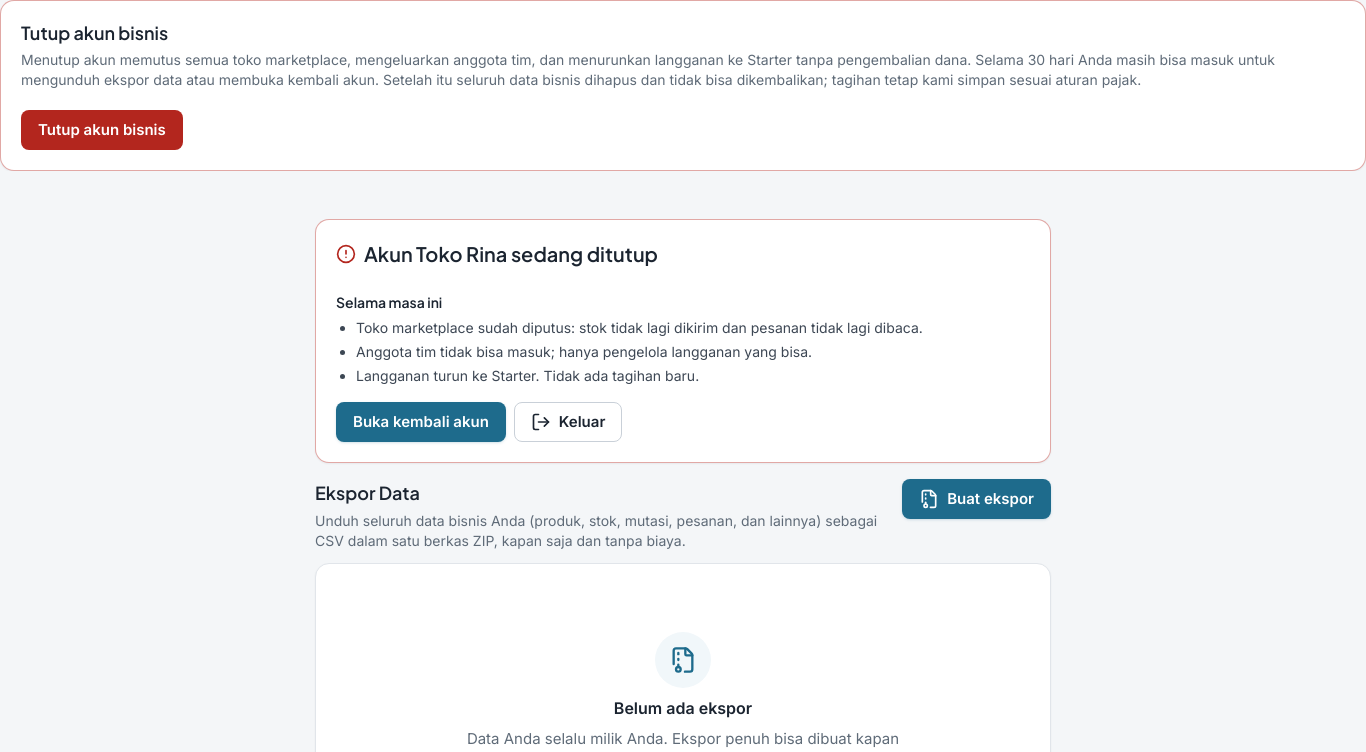
ClosureCard (L47) › hands the closing page what the api answered, not what it read while the account was open
Click the button "Tutup akun bisnis".
click(102, 130)  # box [21,110,183,150]
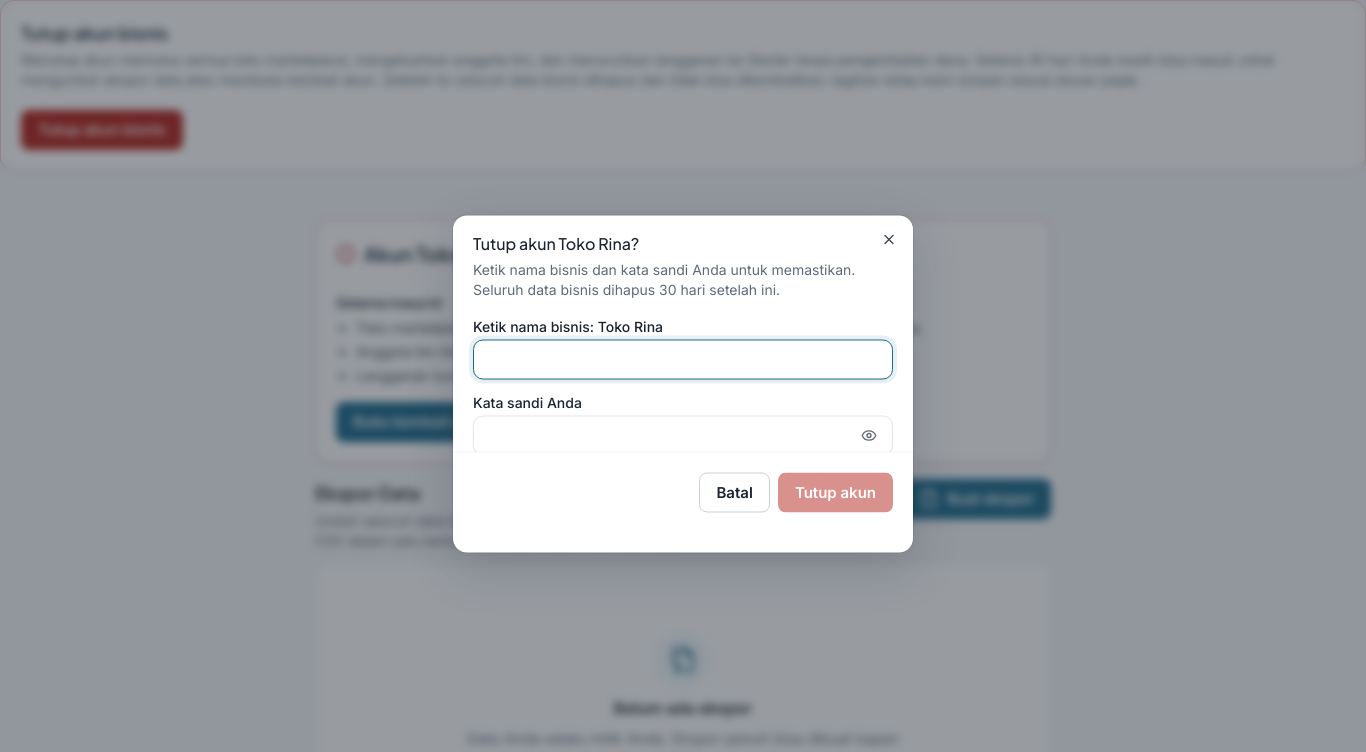
Type "Toko Rina" into the field labelled "Ketik nama bisnis: Toko Rina".
click(683, 360); type("Toko Rina")  # box [473,340,893,380]
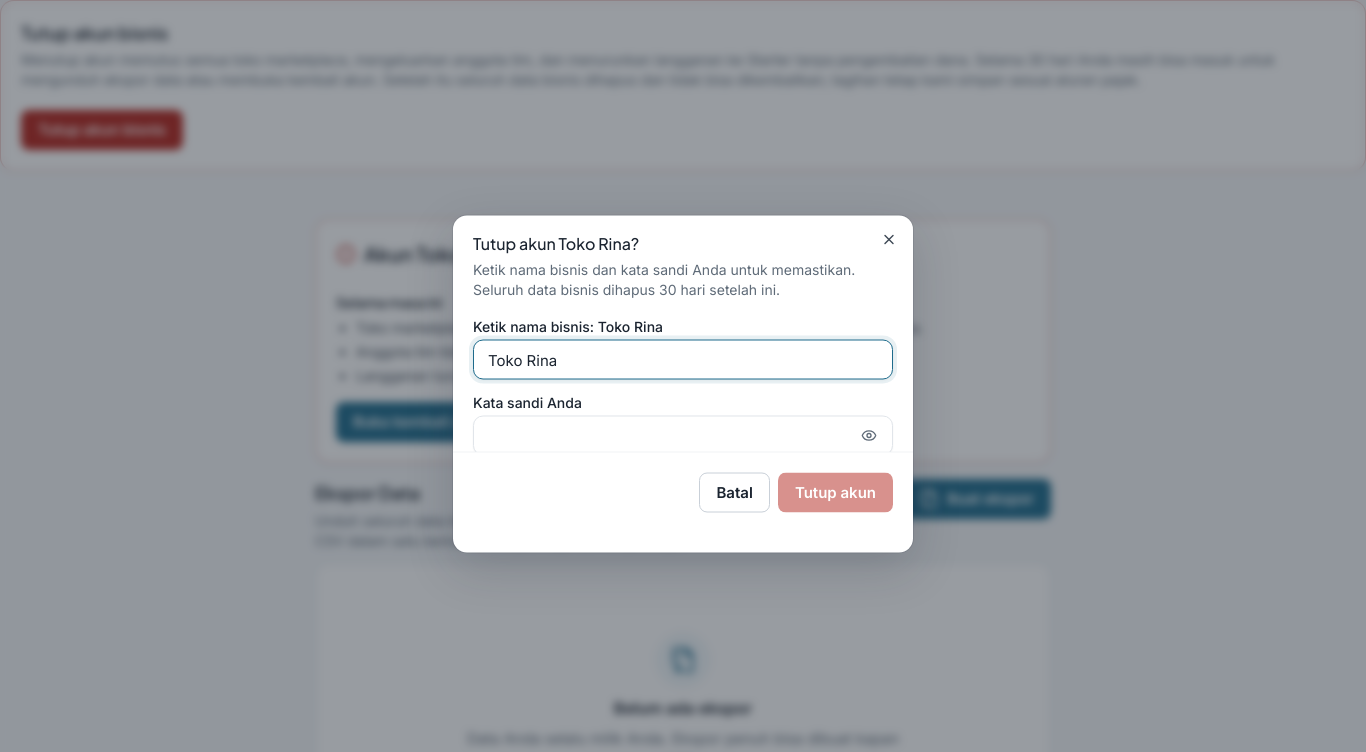
Type "rahasia-kuat" into the password field labelled "Kata sandi Anda".
click(683, 436); type("rahasia-kuat")  # box [473,416,893,456]
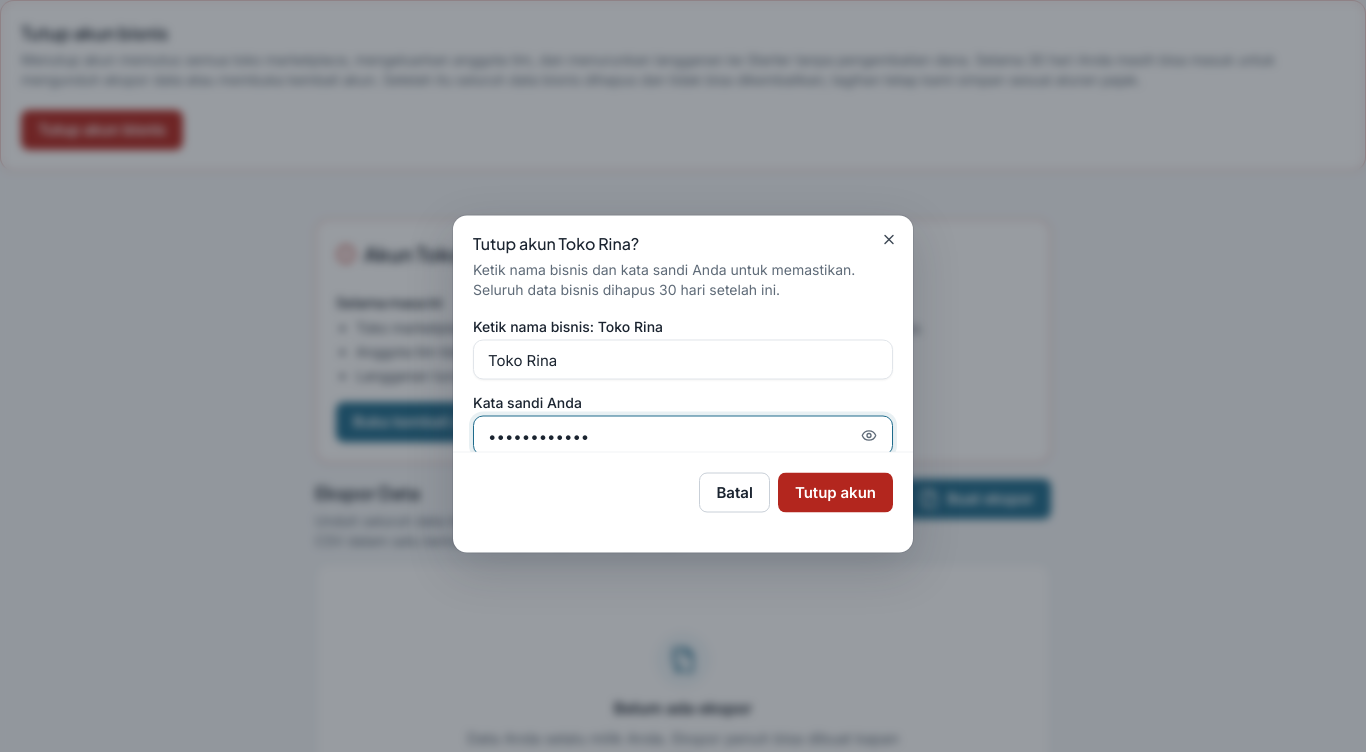
Click the button "Tutup akun".
click(835, 492)  # box [778,472,893,512]
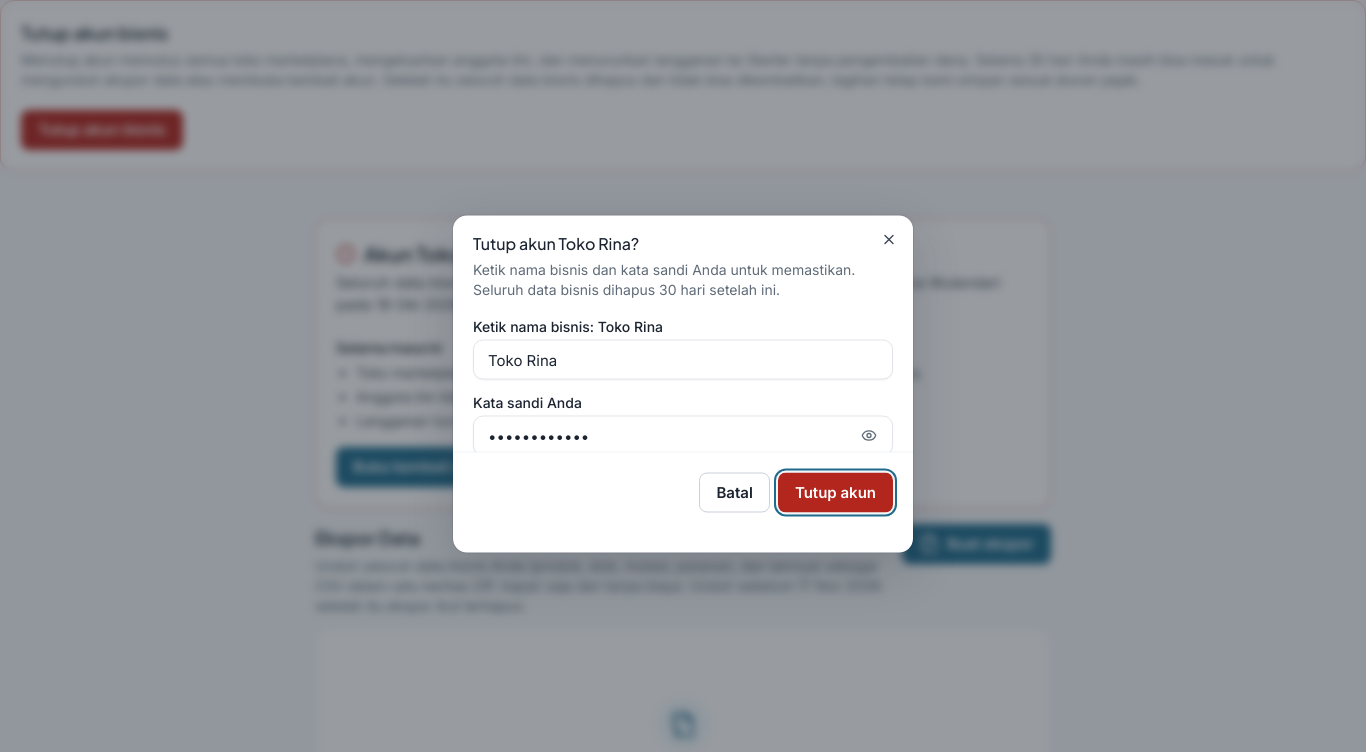
Expected: the text "Ditutup oleh Rina Wulandari" is shown, [336,273,1000,314]
